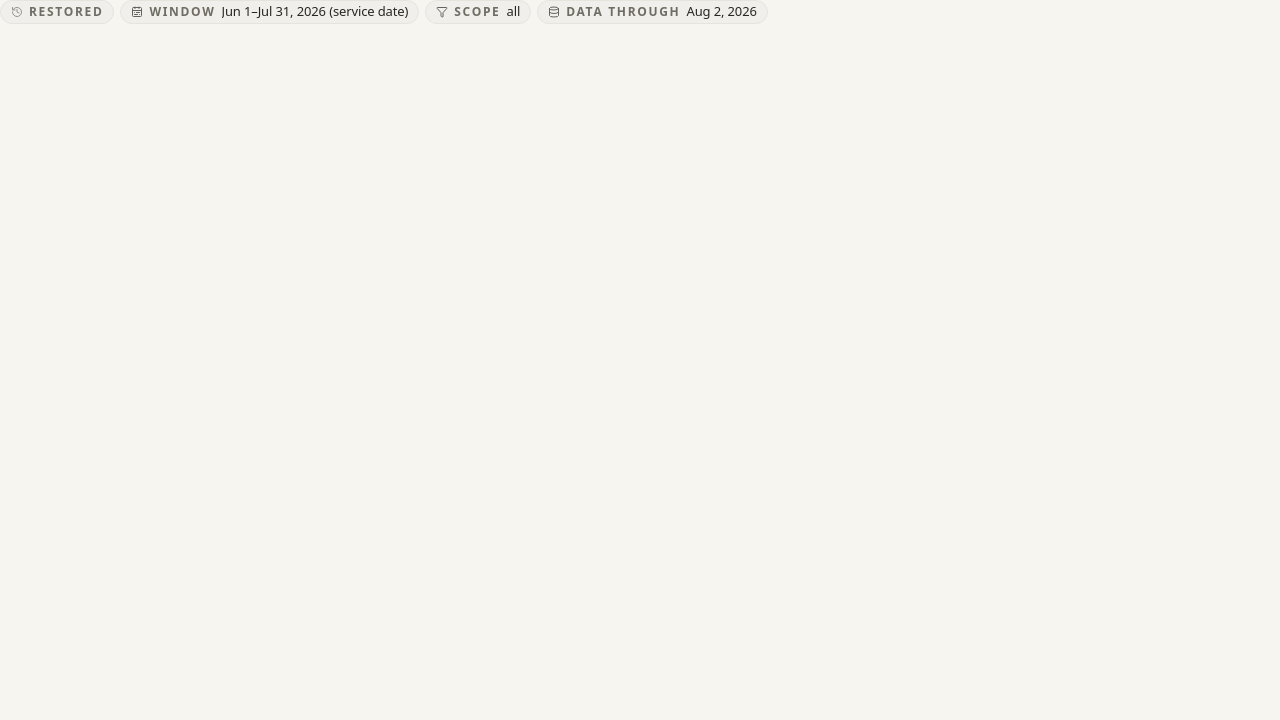
Test: ContextHeader — a restored turn › marks the header as restored and says what a restore keeps
This screenshot has width=1280, height=720.
Click the button "Restored": (57, 12) x1=0 y1=0 x2=114 y2=24
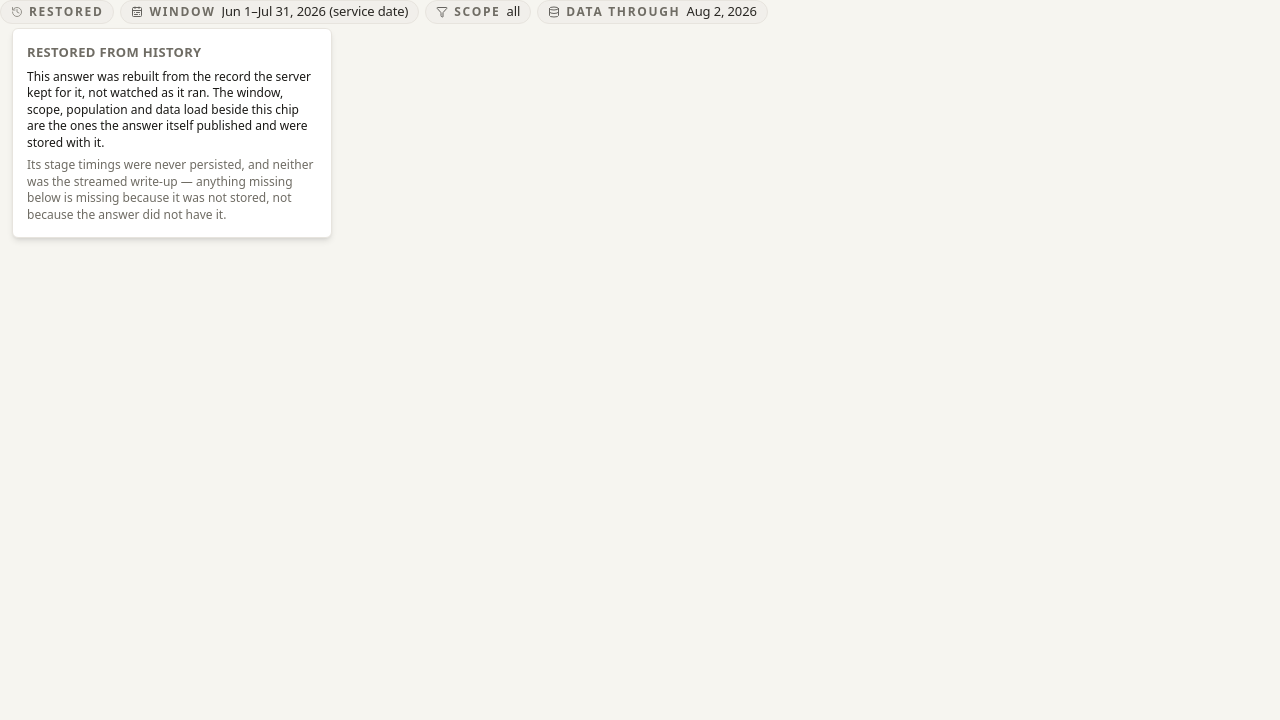
Check: the text "rebuilt from the record the server kept for it" is shown, box x1=27 y1=68 x2=311 y2=150
Check: the text "anything missing below is missing because it was not stored" is shown, box x1=27 y1=156 x2=313 y2=222
